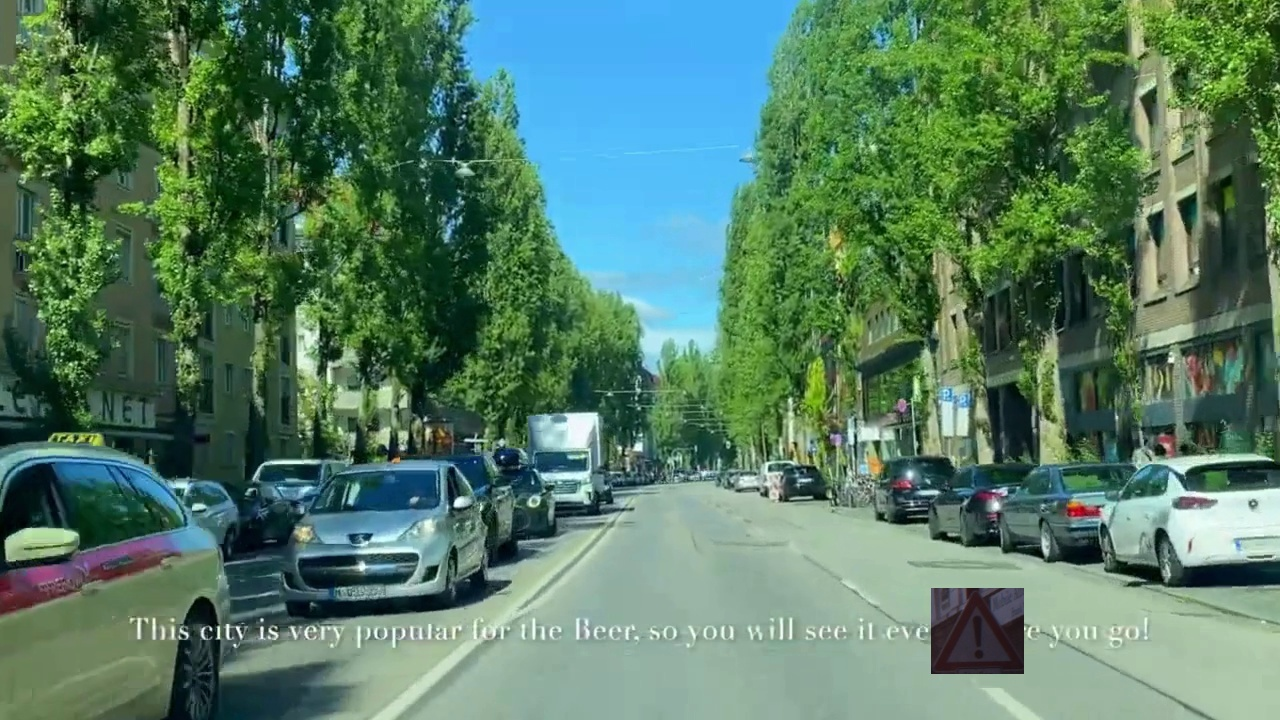Caution: (931, 588, 1024, 674)
